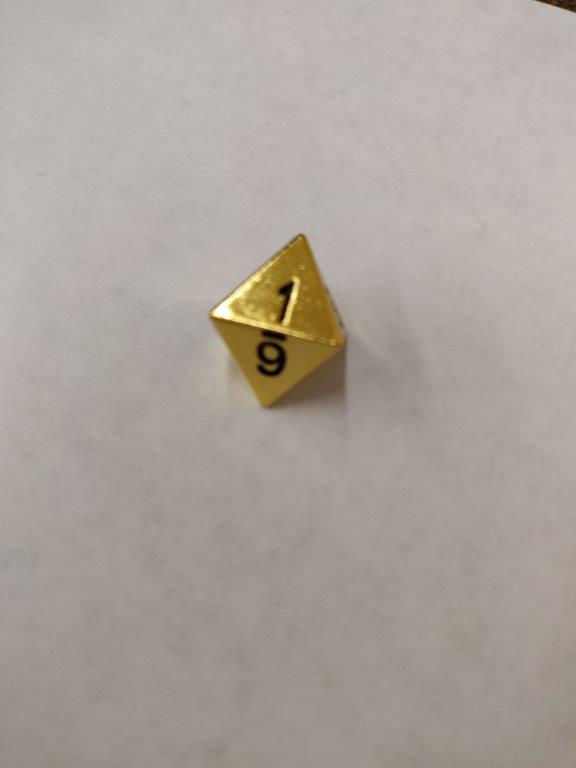d8-1: (209, 232, 346, 409)
